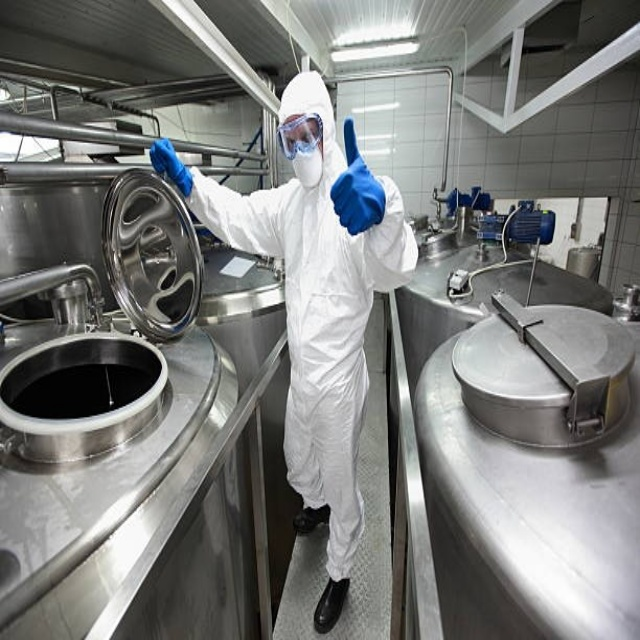Gafas: (277, 113, 323, 159)
Guantes: (329, 118, 386, 235), (150, 137, 192, 197)
Mascara: (290, 138, 323, 189)
